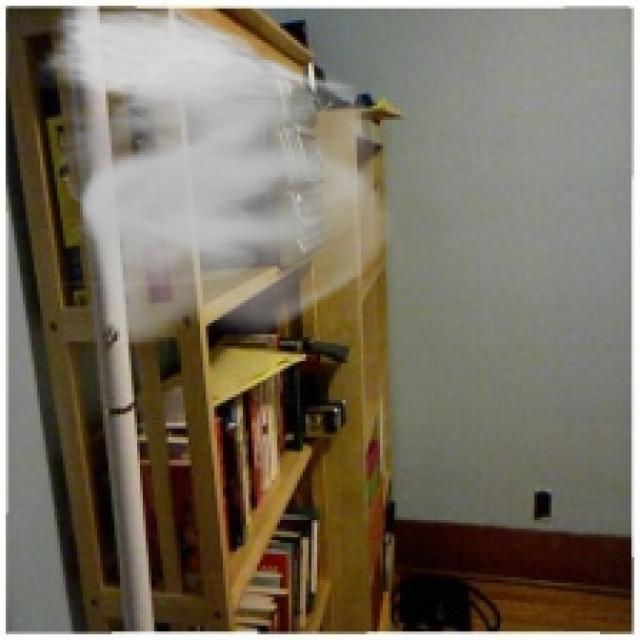smoke: (37, 0, 403, 346)
